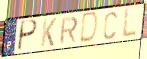C: (102, 10, 119, 41)
D: (78, 11, 100, 45)
K: (40, 17, 57, 48)
L: (121, 7, 138, 40)
P: (16, 19, 39, 53)
R: (59, 15, 80, 45)
